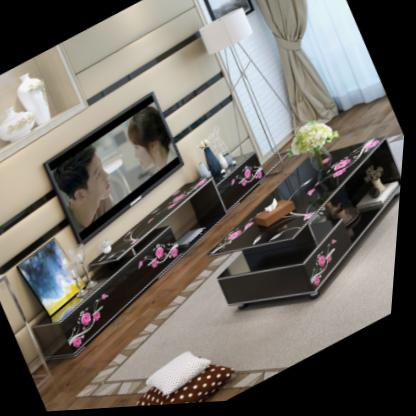Curtains: (248, 0, 341, 132)
TV stand: (21, 153, 274, 360)
Wooden floor: (38, 172, 291, 412)
